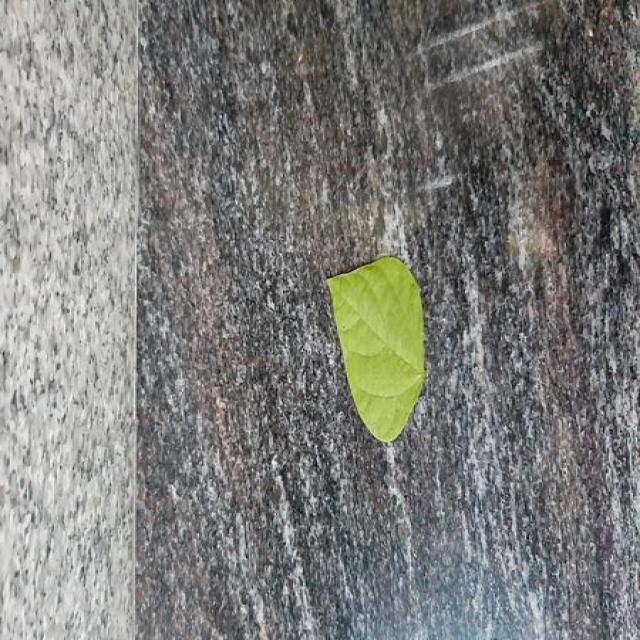beans: (327, 256, 427, 442)
